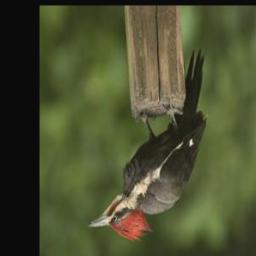Woodpecker: (84, 46, 216, 249)
